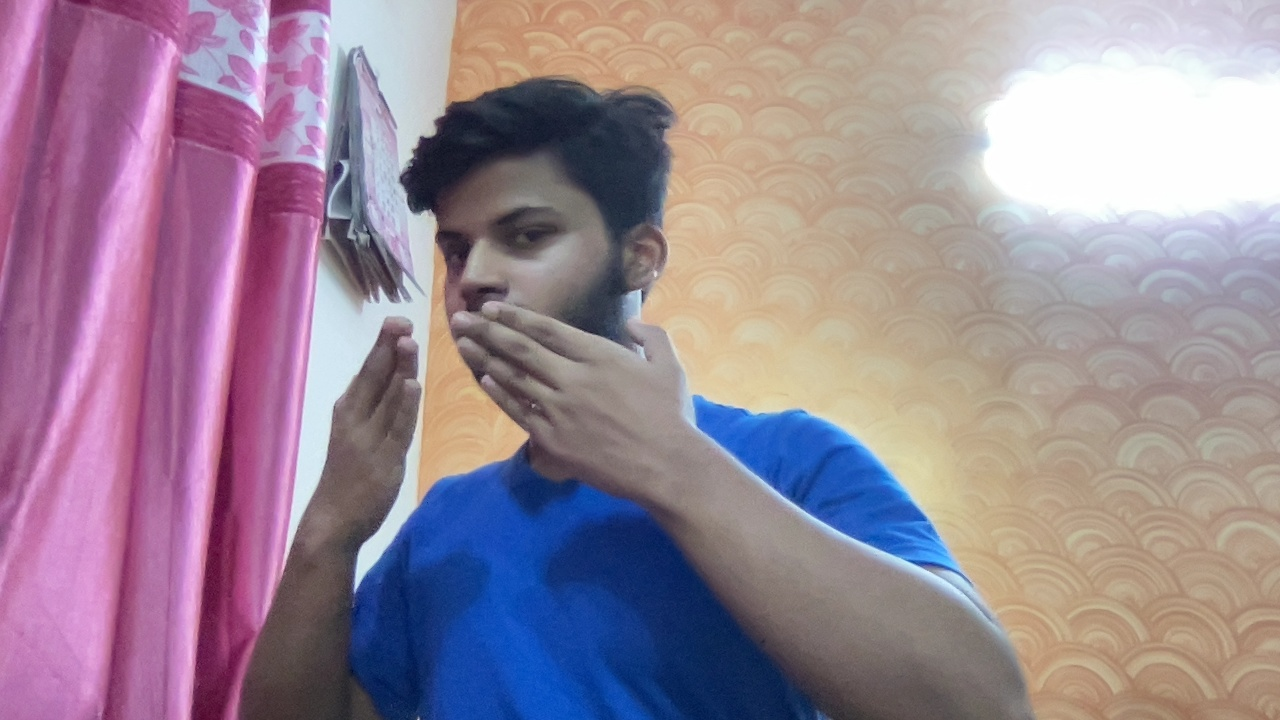thankyou: (277, 306, 733, 540)
